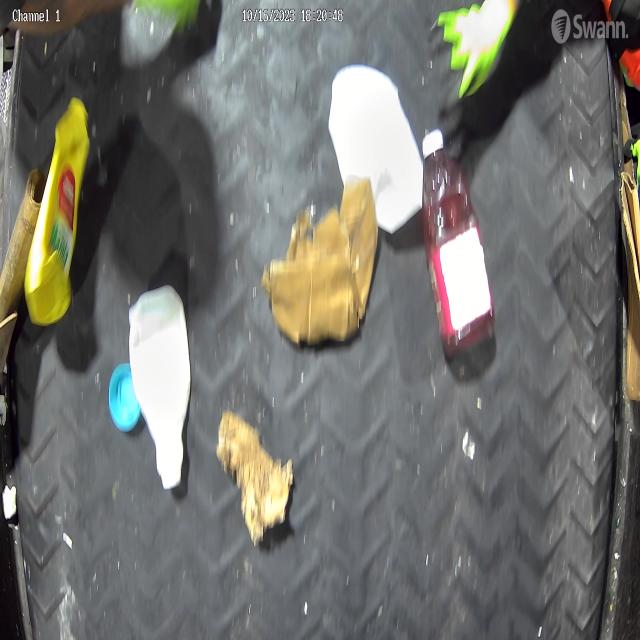milk_jug: (329, 63, 423, 235), (128, 284, 191, 488)
non_white_jug: (25, 98, 90, 325)
